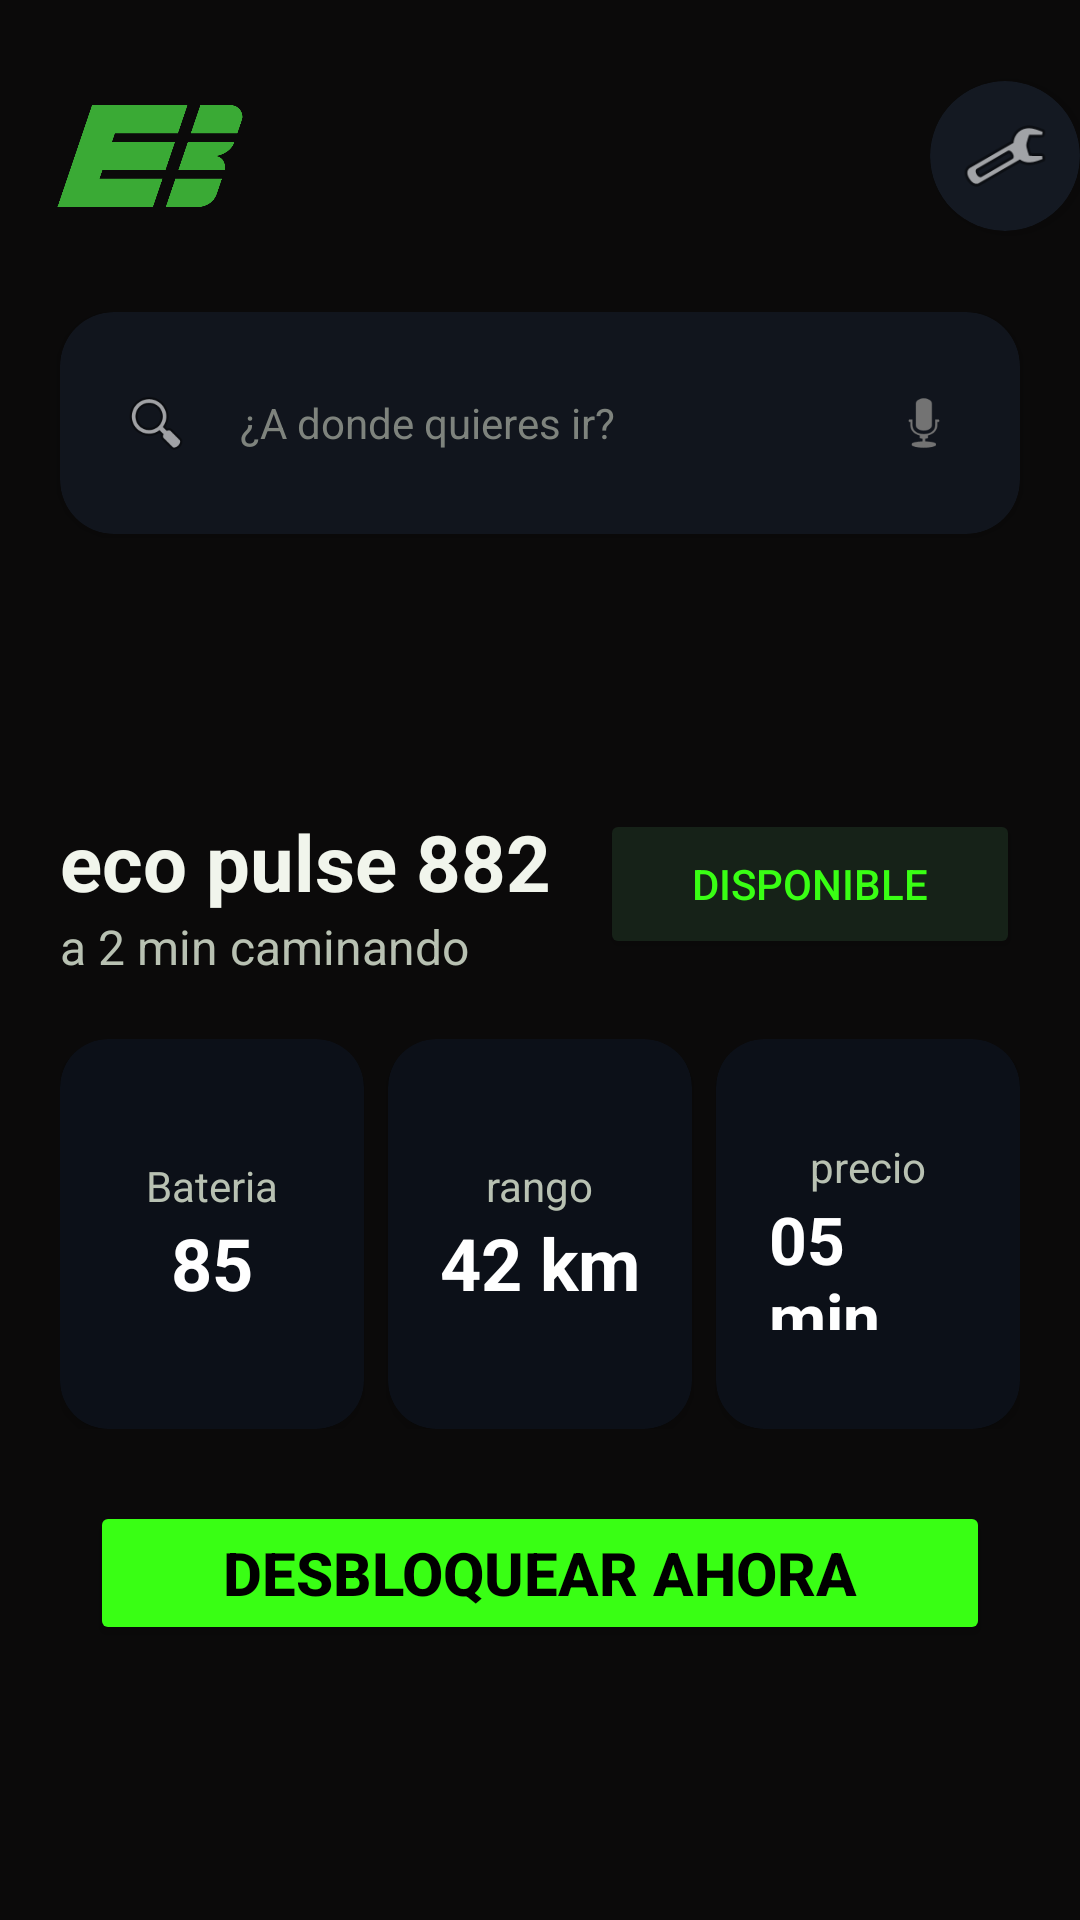

Icon bounding boxes for this 1080*1920 phone screenshot, format (x1, y1, x2, y2):
ajustes: (931, 81, 1079, 231)
search: (132, 399, 180, 448)
speak now: (908, 398, 940, 448)
